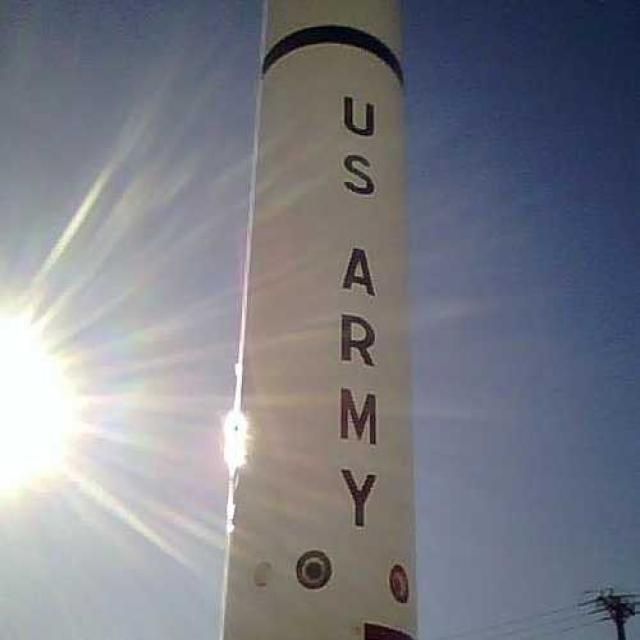missile: (216, 0, 420, 640)
